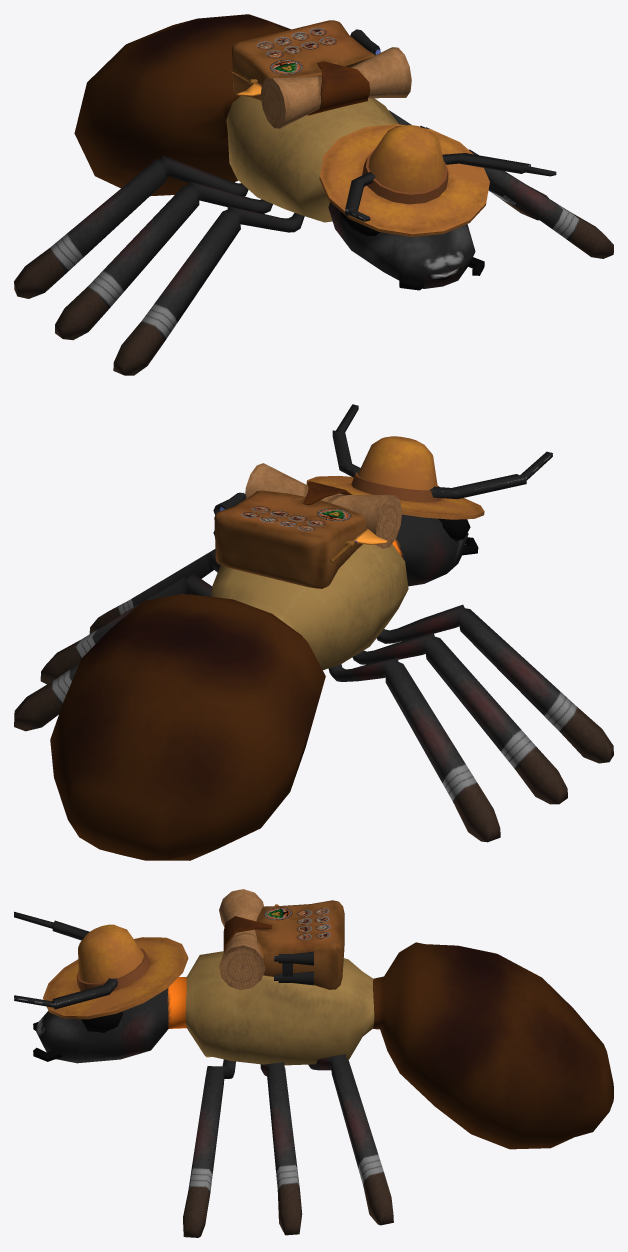
Rendered from CH_ScoutAnt.fbx.
3 renders of one model, top to bottom at view 1: azimuth 30°, elevation 25°; view 2: azimuth 150°, elevation 25°; view 3: azimuth 270°, elevation 25°, orthographic. The views are drawn at different scales.
Visible parts, largest first — view 1: SM_ScoutAnt; view 2: SM_ScoutAnt; view 3: SM_ScoutAnt.
Boxes of the visible parts, x1,y1,x2,y2 form: SM_ScoutAnt: [14, 14, 613, 375]; SM_ScoutAnt: [14, 404, 613, 860]; SM_ScoutAnt: [14, 889, 613, 1237].
Bounding box in the file's own units: 0.8891 × 0.4033 × 1.
